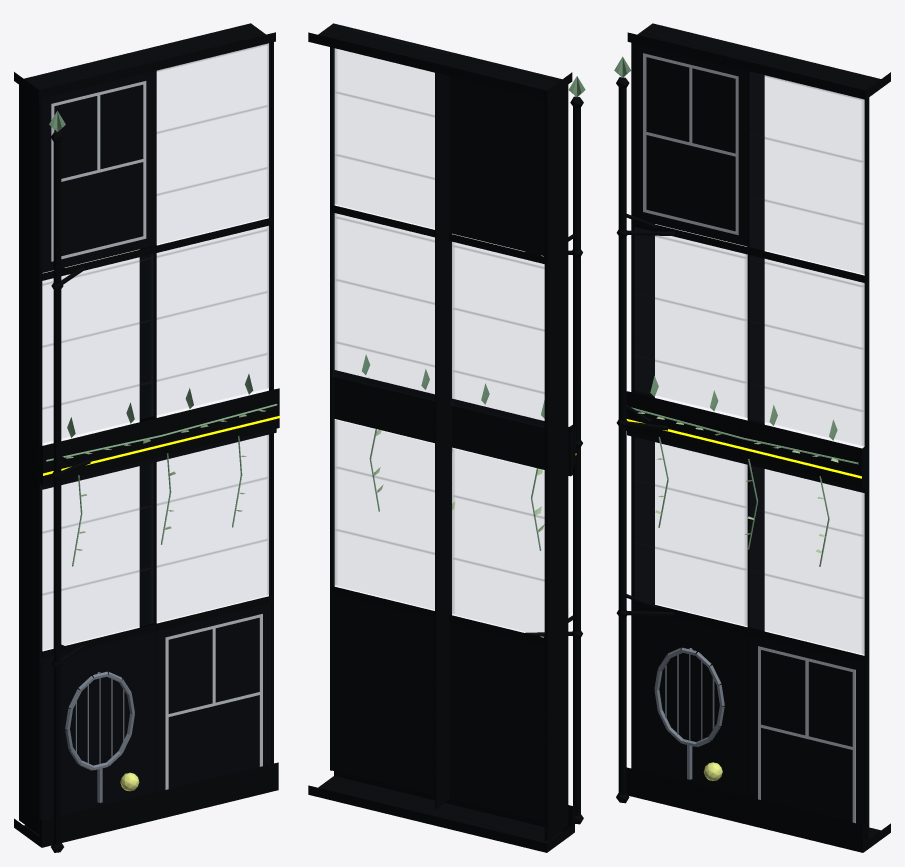
The picture shows the model from 3 angles, left to right: view 1: azimuth 30°, elevation 25°; view 2: azimuth 150°, elevation 25°; view 3: azimuth 330°, elevation 25°; orthographic projection.
Parts seen in each view (by area): view 1: Frame, Slate_Panels, Slab_Band_Step, Court_Inlay, Racket_Relief, Glass_5, Glass_7, Glass_4, Glass_3, Slab_Band_Slate, Glass_2, Slab_Band_Court_Line (+2 smaller); view 2: Frame, Slate_Panels, Slab_Band_Slate, Glass_5, Glass_4, Glass_3, Glass_7, Glass_2, Slab_Band_Step; view 3: Slate_Panels, Frame, Slab_Band_Step, Court_Inlay, Racket_Relief, Glass_5, Glass_4, Glass_7, Glass_3, Glass_2, Slab_Band_Slate, Slab_Band_Court_Line (+2 smaller).
Part boxes in pixels (<box>): Frame: <box>14,23,278,852</box>; Slate_Panels: <box>42,71,271,819</box>; Slab_Band_Step: <box>39,388,279,485</box>; Court_Inlay: <box>51,81,262,789</box>; Racket_Relief: <box>65,671,134,802</box>; Glass_5: <box>157,226,270,387</box>; Glass_7: <box>157,43,270,216</box>; Glass_4: <box>42,254,153,416</box>; Glass_3: <box>157,434,270,594</box>; Slab_Band_Slate: <box>37,389,276,490</box>; Glass_2: <box>42,463,153,623</box>; Slab_Band_Court_Line: <box>43,415,279,475</box>; Frame: <box>308,23,583,852</box>; Slate_Panels: <box>332,55,558,822</box>; Slab_Band_Slate: <box>334,374,572,476</box>; Glass_5: <box>333,213,434,376</box>; Glass_4: <box>451,242,544,405</box>; Glass_3: <box>333,419,434,585</box>; Glass_7: <box>333,48,434,203</box>; Glass_2: <box>451,448,544,613</box>; Slab_Band_Step: <box>334,370,575,467</box>; Slate_Panels: <box>634,43,864,824</box>; Frame: <box>616,23,890,852</box>; Slab_Band_Step: <box>626,391,865,488</box>; Court_Inlay: <box>643,53,855,823</box>; Racket_Relief: <box>654,647,724,779</box>; Glass_5: <box>750,258,864,445</box>; Glass_4: <box>635,230,747,417</box>; Glass_7: <box>750,72,864,273</box>; Glass_3: <box>750,493,864,654</box>; Glass_2: <box>635,464,747,625</box>; Slab_Band_Slate: <box>627,391,866,493</box>; Slab_Band_Court_Line: <box>626,419,861,478</box>.
Size of the model in its own units: 4 by 12.2 by 1.2.
Materials: 9 (5 with a texture image).
